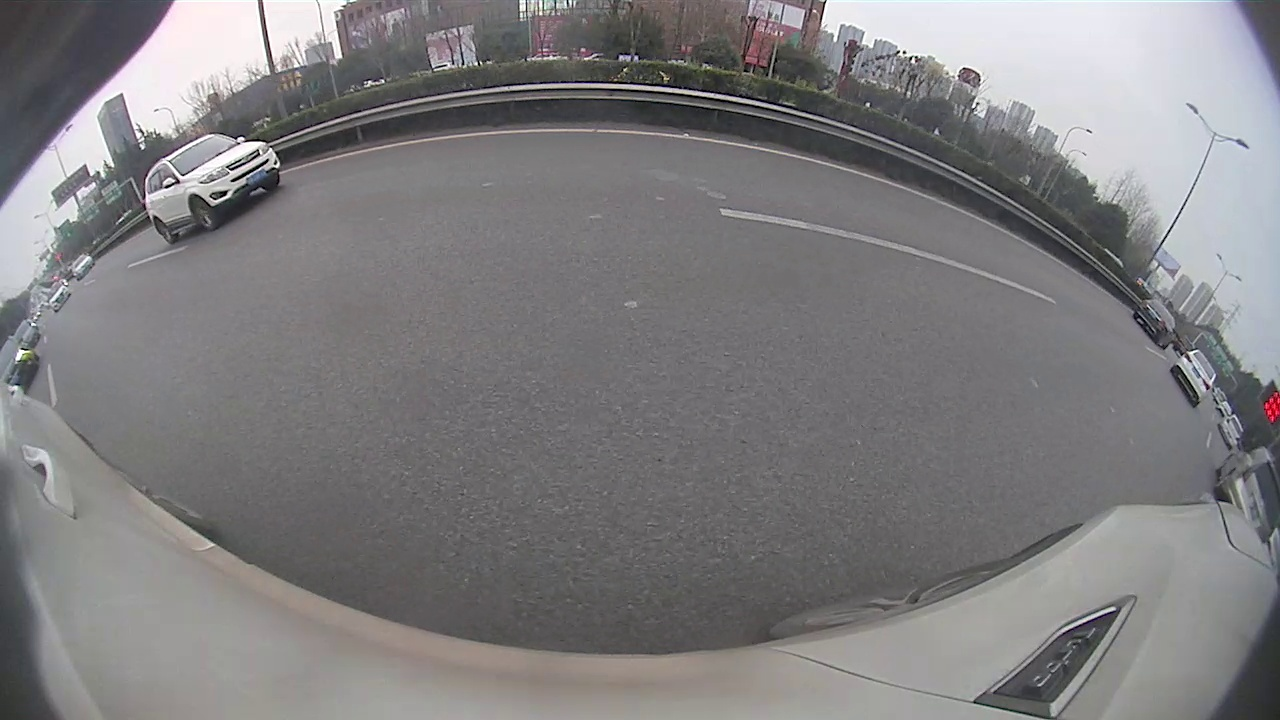car: (143, 134, 280, 247), (1214, 448, 1268, 522), (1171, 344, 1218, 408), (0, 335, 42, 393), (1133, 297, 1178, 350)
front: (191, 196, 222, 232)
rear: (155, 219, 179, 245)
